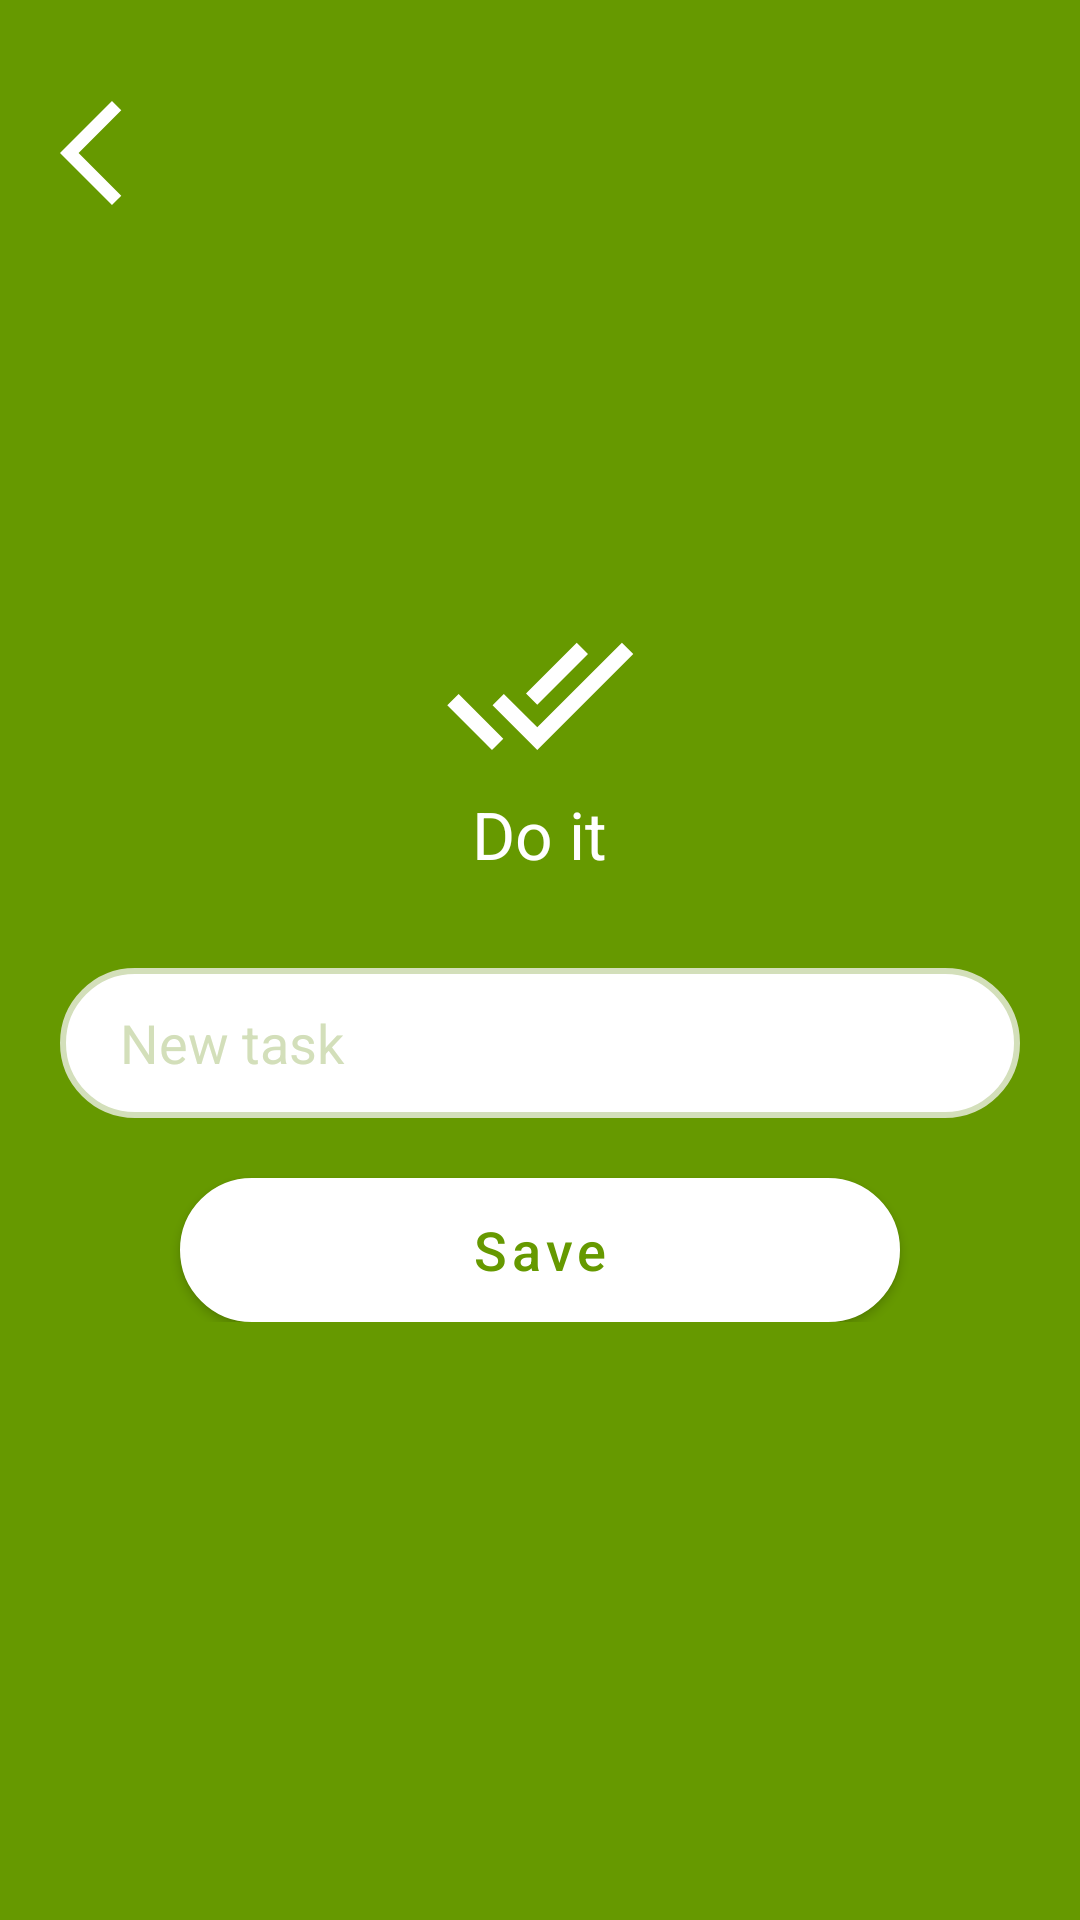

Locate icon controls on the screen. Image size 1080px x 1920px, boxes as (x1, y1, x2, y2).
arrow back: (60, 101, 121, 205)
done all: (447, 643, 633, 750)
